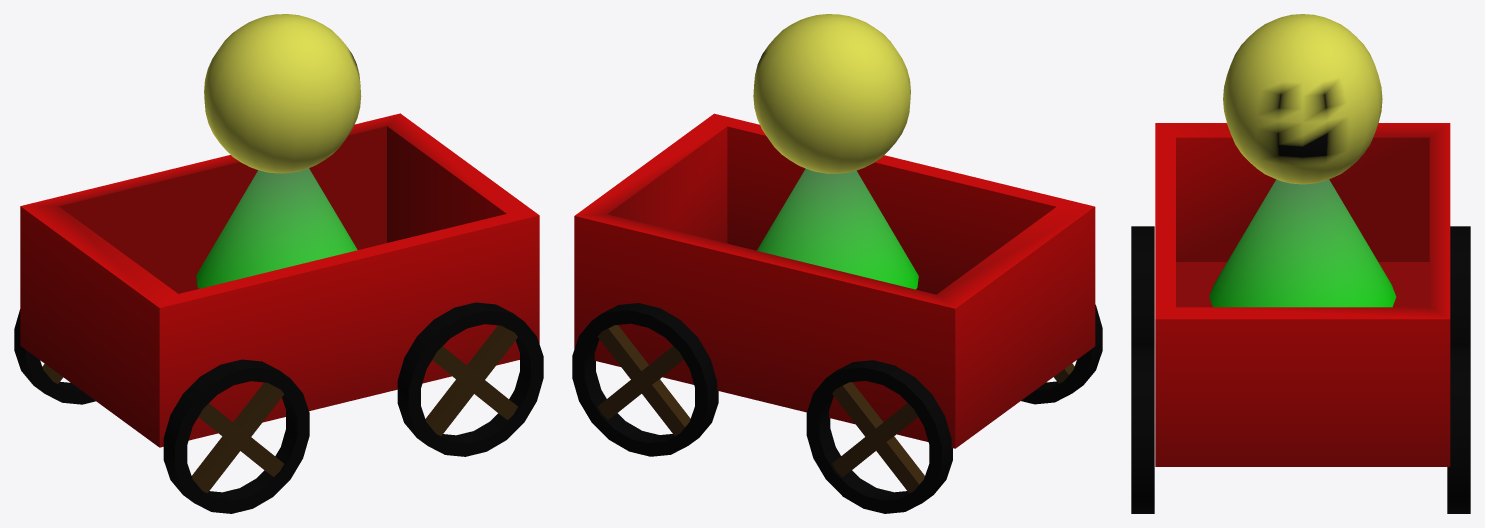
The model's file is cart3.fbx.
The picture shows the model from 3 angles, left to right: view 1: azimuth 30°, elevation 25°; view 2: azimuth 150°, elevation 25°; view 3: azimuth 270°, elevation 25°; orthographic projection. The views are drawn at different scales.
Visible parts, largest first — view 1: cart, pSphere1, wheel1, wheel, pCone1, wheel2; view 2: cart, pSphere1, wheel2, wheel3, pCone1, wheel1; view 3: cart, pSphere1, pCone1, wheel, wheel3, wheel1, wheel2.
Boxes of the visible parts, x1,y1,x2,y2 form: cart: (20, 113, 539, 447); pSphere1: (204, 14, 361, 173); wheel1: (163, 359, 309, 513); wheel: (397, 302, 543, 456); pCone1: (196, 168, 357, 288); wheel2: (14, 309, 95, 404); cart: (574, 113, 1095, 448); pSphere1: (753, 14, 910, 173); wheel2: (806, 360, 952, 513); wheel3: (572, 303, 718, 456); pCone1: (757, 168, 918, 289); wheel1: (1021, 304, 1102, 404); cart: (1155, 123, 1450, 466); pSphere1: (1223, 14, 1382, 184); pCone1: (1209, 179, 1396, 307); wheel: (1131, 347, 1154, 513); wheel3: (1447, 347, 1470, 513); wheel1: (1131, 226, 1154, 347); wheel2: (1450, 226, 1470, 347).
Bounding box in the file's own units: 2.85 × 2.88 × 2.08.
